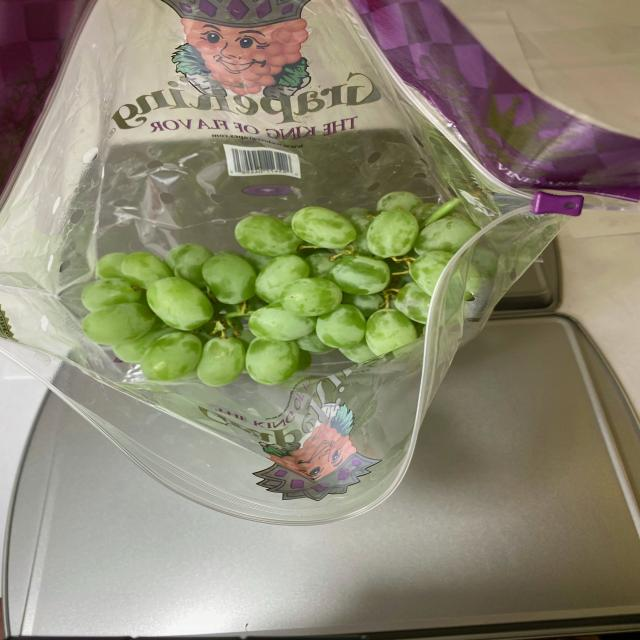grapes: (78, 177, 508, 394)
